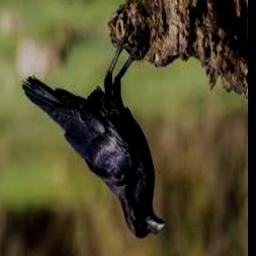Crow: (22, 30, 167, 240)
